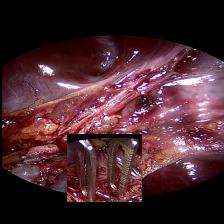Bipolar: (66, 134, 141, 202)
